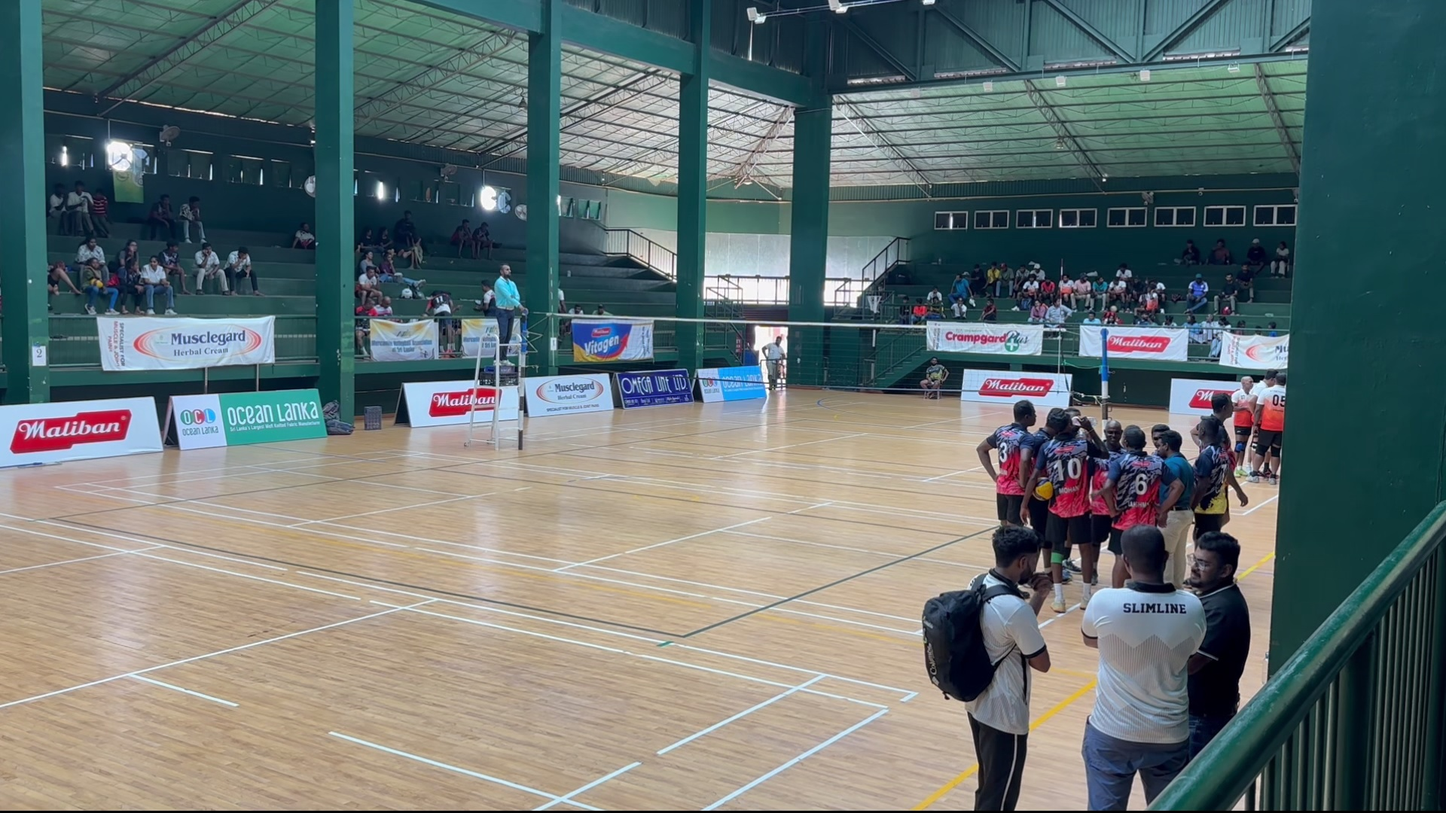Ball: (484, 260, 530, 366)
Payer_B: (1031, 408, 1089, 587), (1047, 407, 1094, 587), (1078, 409, 1122, 592), (1153, 427, 1191, 585), (989, 403, 1032, 539), (1027, 410, 1061, 577), (1000, 404, 1036, 539)
